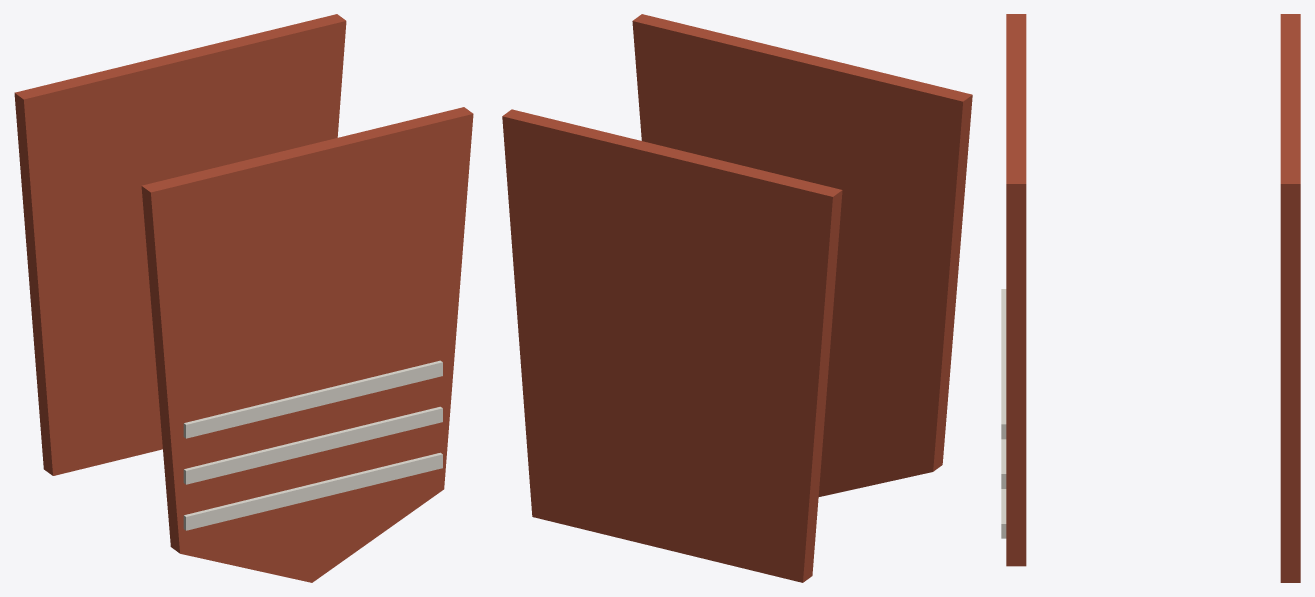
Rendered from western-poncho.glb.
3 renders of one model, left to right at view 1: azimuth 30°, elevation 25°; view 2: azimuth 150°, elevation 25°; view 3: azimuth 270°, elevation 25°, orthographic. The views are drawn at different scales.
Visible parts, largest first — view 1: Front, Back, WovenStripe (×3); view 2: Back, Front; view 3: Back, Front, WovenStripe.
Boxes of the visible parts, x1,y1,x2,y2 form: Front: (141,107,473,582); Back: (14,14,346,475); WovenStripe (×3): (183,360,442,530); Back: (502,109,842,582); Front: (632,14,972,496); Back: (1280,14,1300,582); Front: (1006,14,1026,566); WovenStripe: (1001,289,1006,439).
Size of the model in its own units: 0.44 by 0.56 by 0.3275.
